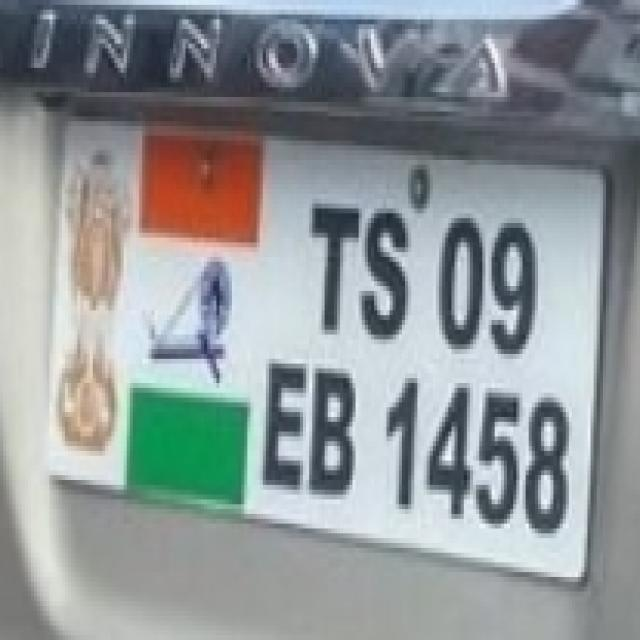0: (431, 208, 491, 356)
1: (380, 364, 422, 512)
4: (421, 372, 479, 526)
5: (472, 383, 528, 536)
8: (520, 394, 573, 543)
9: (484, 214, 545, 362)
B: (306, 352, 363, 495)
E: (255, 351, 311, 499)
S: (352, 203, 419, 348)
T: (298, 198, 367, 338)
